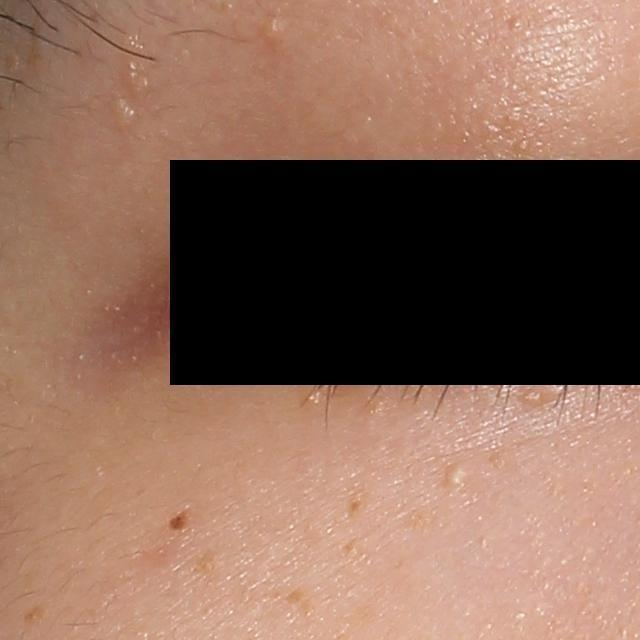comedo: (260, 20, 287, 48)
melasma: (345, 484, 374, 519), (281, 588, 315, 615), (23, 604, 47, 625), (342, 537, 361, 557)
nevus: (167, 503, 192, 533)
other: (107, 95, 135, 130), (520, 381, 556, 408)
